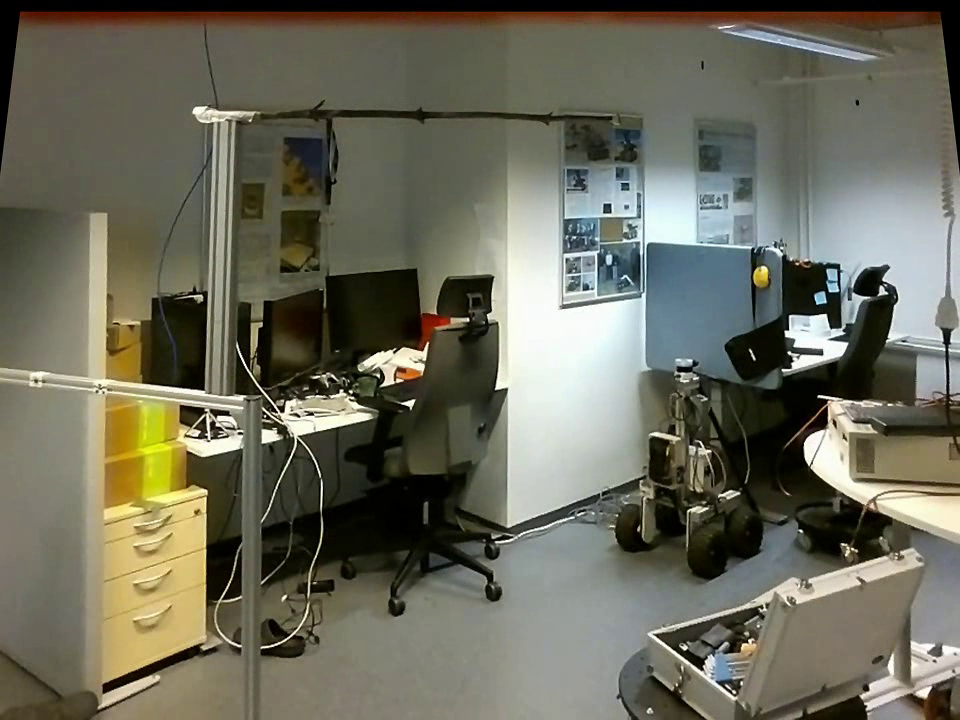aluminum_frame: (2, 364, 243, 417), (237, 391, 269, 718), (199, 131, 237, 389), (203, 124, 235, 290)
branch: (260, 95, 604, 132)
